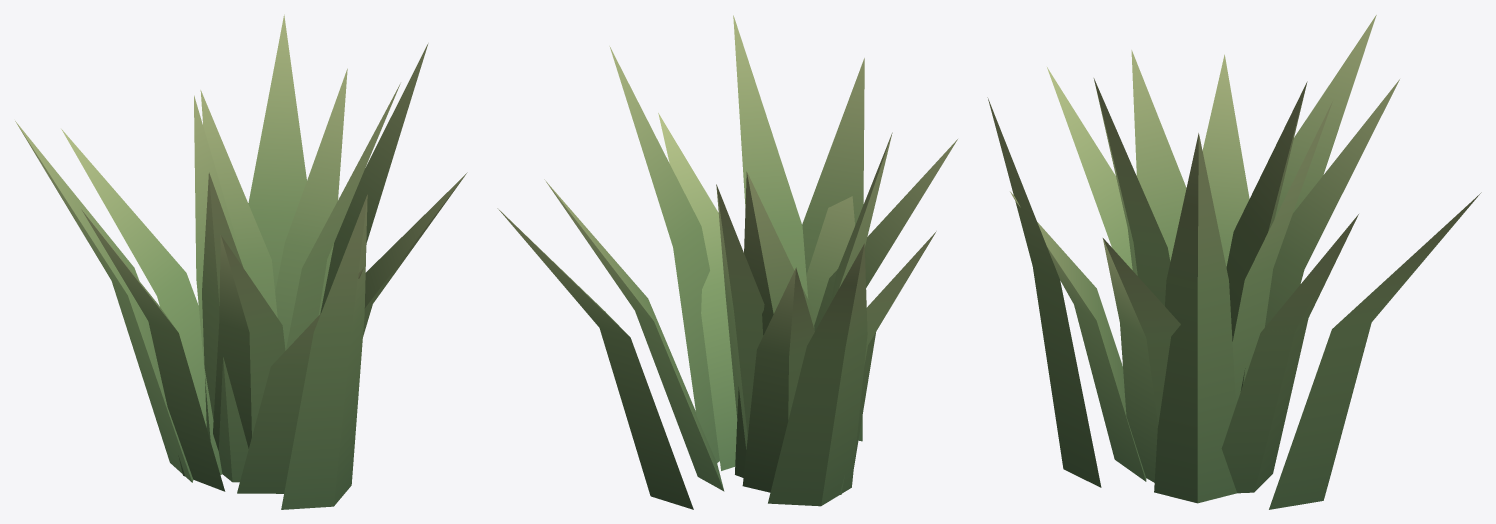
Rendered from grass_tuft.glb.
3 views of the same model, side by side, from view 1: azimuth 30°, elevation 25°; view 2: azimuth 150°, elevation 25°; view 3: azimuth 270°, elevation 25° (orthographic). The views are drawn at different scales.
Parts seen in each view (by area): view 1: grass_tuft; view 2: grass_tuft; view 3: grass_tuft.
Boxes of the visible parts, x1,y1,x2,y2 form: grass_tuft: (15, 14, 467, 509); grass_tuft: (497, 15, 957, 509); grass_tuft: (987, 15, 1481, 509).
Size of the model in its own units: 1.7 by 1.91 by 1.96.
